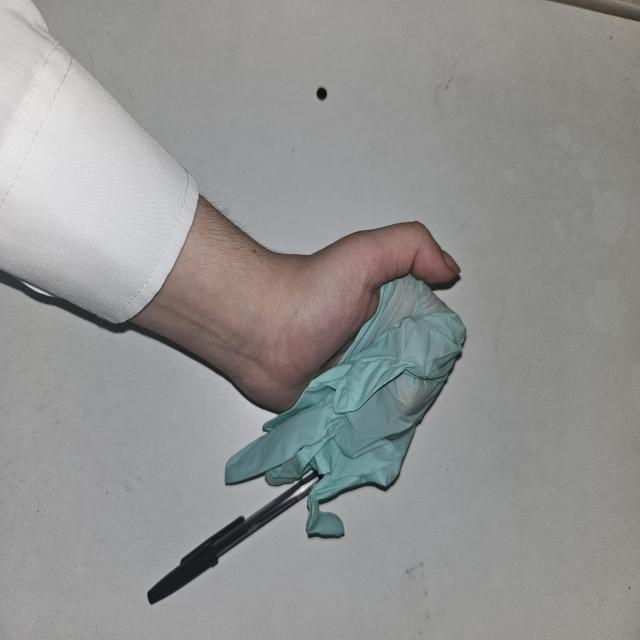glove_partial: (225, 219, 468, 539)
